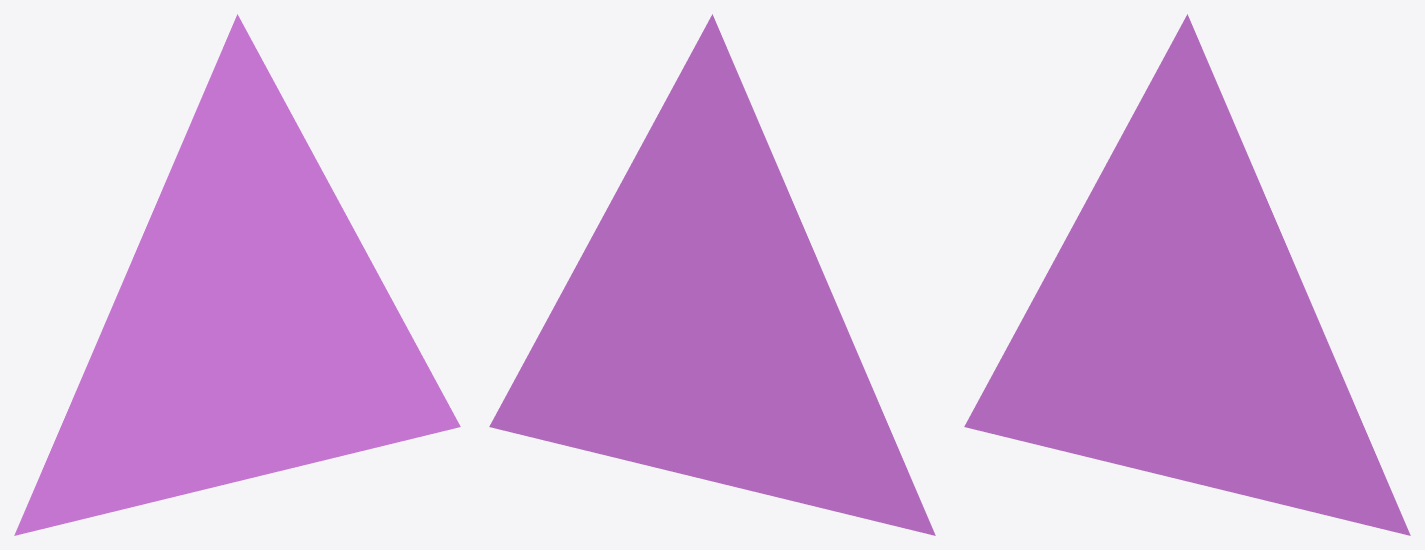
The model's file is linear.gltf.
3 views of the same model, side by side, from view 1: azimuth 30°, elevation 25°; view 2: azimuth 150°, elevation 25°; view 3: azimuth 330°, elevation 25° (orthographic).
Parts seen in each view (by area): view 1: Probe; view 2: Probe; view 3: Probe.
Boxes of the visible parts, x1,y1,x2,y2 form: Probe: (14,14,460,535); Probe: (489,14,935,535); Probe: (964,14,1410,535).
Size of the model in its own units: 1 by 1 by 0.
